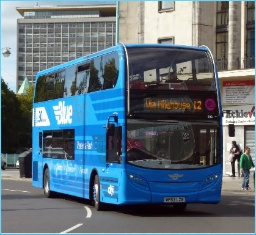bus: (30, 43, 227, 214)
